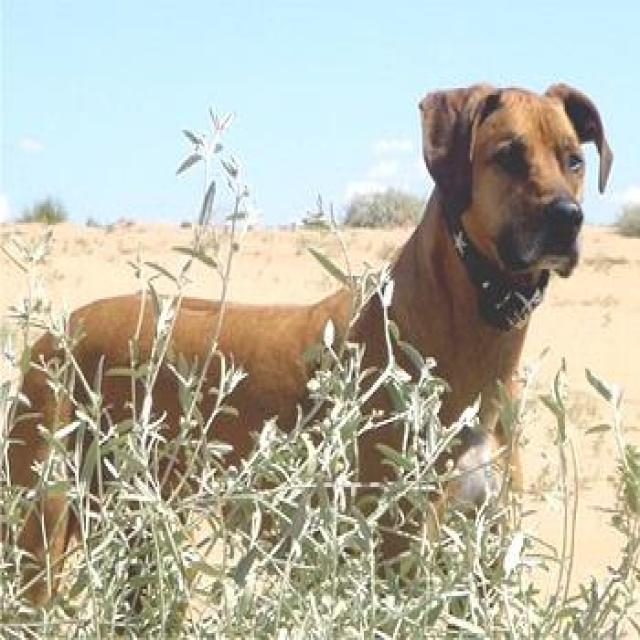rhodesian_ridgeback: (0, 77, 620, 636)
